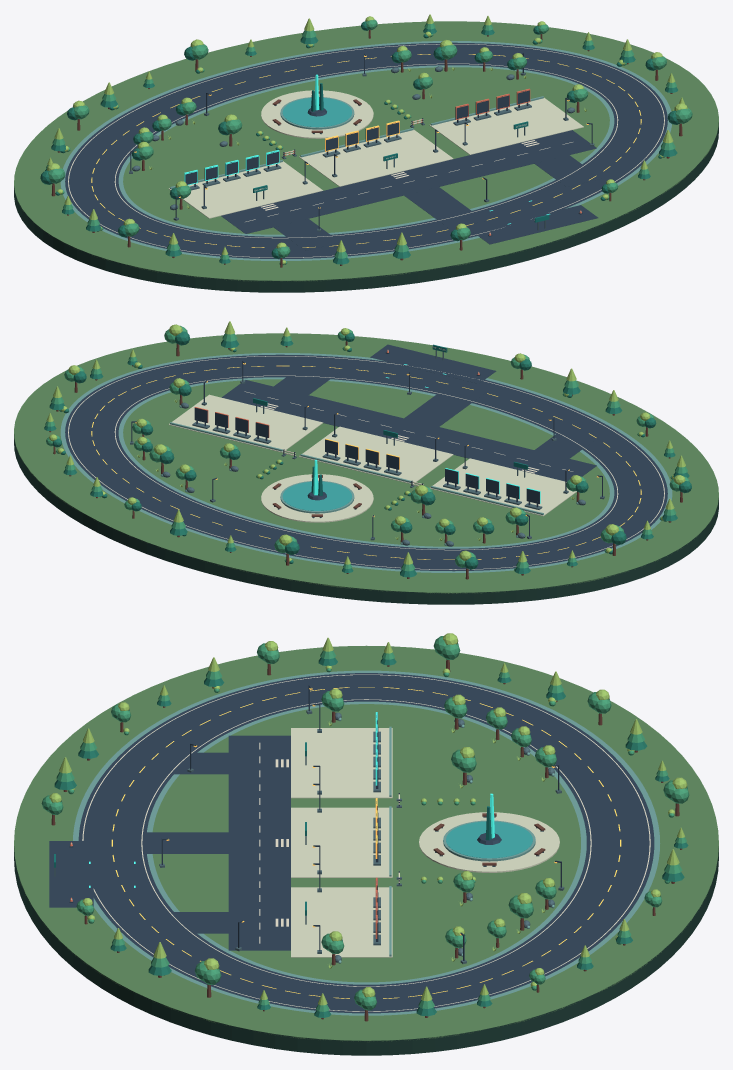
The model's file is portfolio-map.glb.
3 views of the same model, one above another, from view 1: azimuth 30°, elevation 25°; view 2: azimuth 150°, elevation 25°; view 3: azimuth 270°, elevation 25° (orthographic). The views are drawn at different scales.
Visible parts, largest first — view 1: Portfolio_World_Static; view 2: Portfolio_World_Static; view 3: Portfolio_World_Static.
Part boxes in pixels (x1,y1,x2,y2): Portfolio_World_Static: (14, 14, 718, 292); Portfolio_World_Static: (14, 321, 718, 604); Portfolio_World_Static: (14, 633, 718, 1055).
Size of the model in its own units: 114 by 8.65 by 86.
